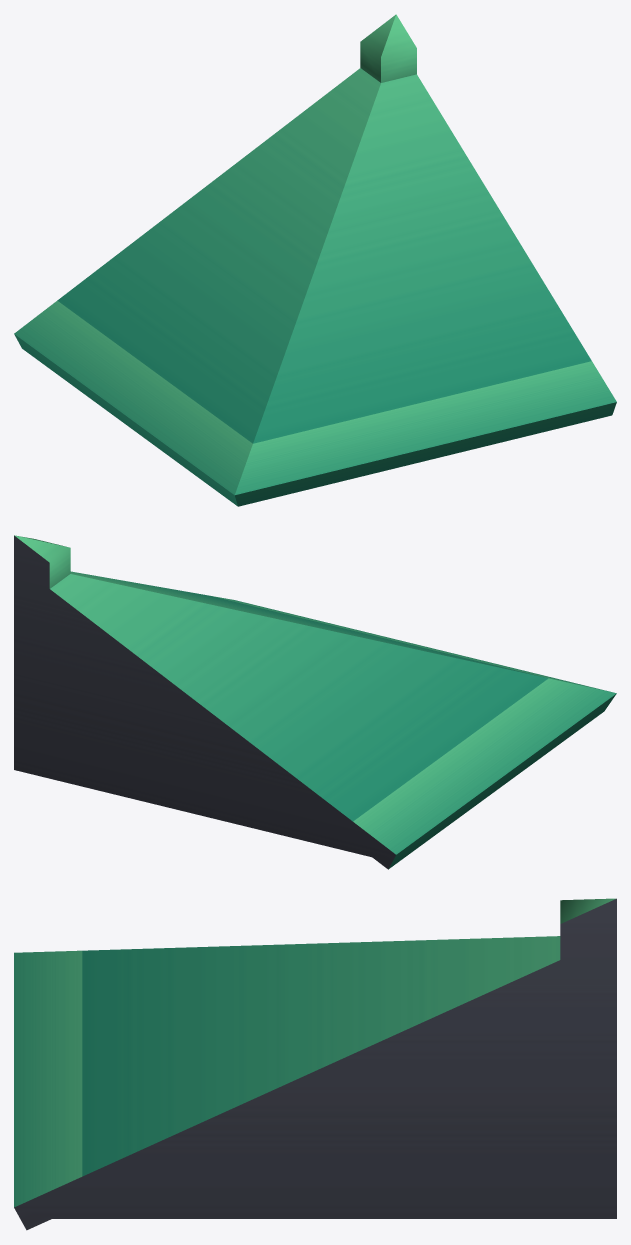
Rendered from roof-corner.glb.
3 views of the same model, one above another, from view 1: azimuth 30°, elevation 25°; view 2: azimuth 150°, elevation 25°; view 3: azimuth 270°, elevation 25° (orthographic). The views are drawn at different scales.
Parts seen in each view (by area): view 1: roof-corner; view 2: roof-corner; view 3: roof-corner.
Part boxes in pixels (x1,y1,x2,y2): roof-corner: (14,14,616,506); roof-corner: (14,535,616,869); roof-corner: (14,898,616,1230).
Size of the model in its own units: 1.07 by 0.6483 by 1.07.
Materials: 1 (1 with a texture image).
